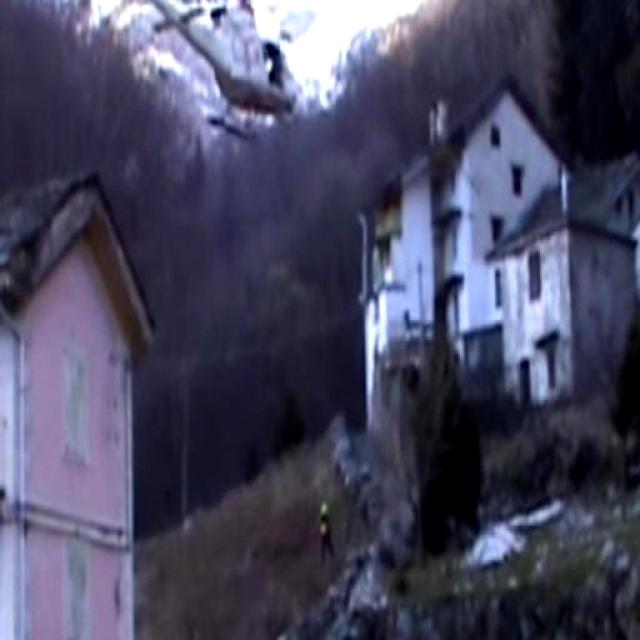drone: (125, 0, 324, 154)
